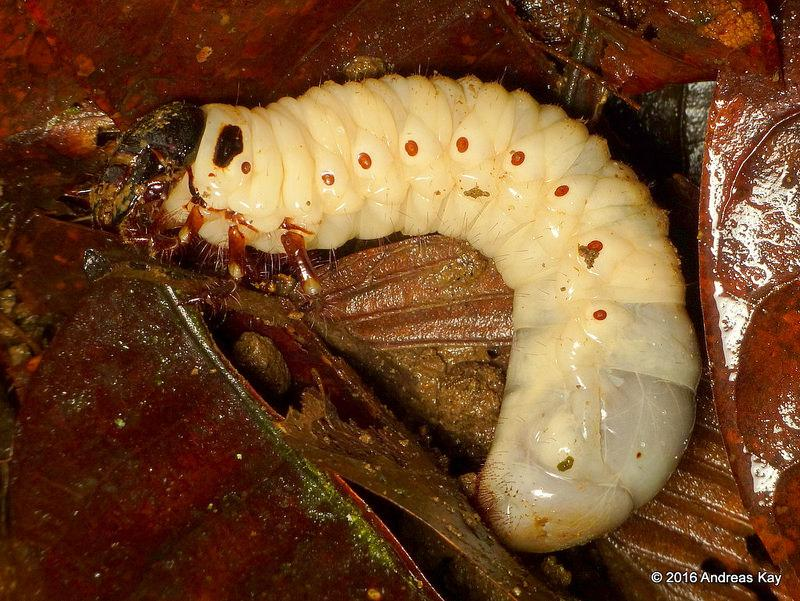grub: (96, 59, 716, 555)
